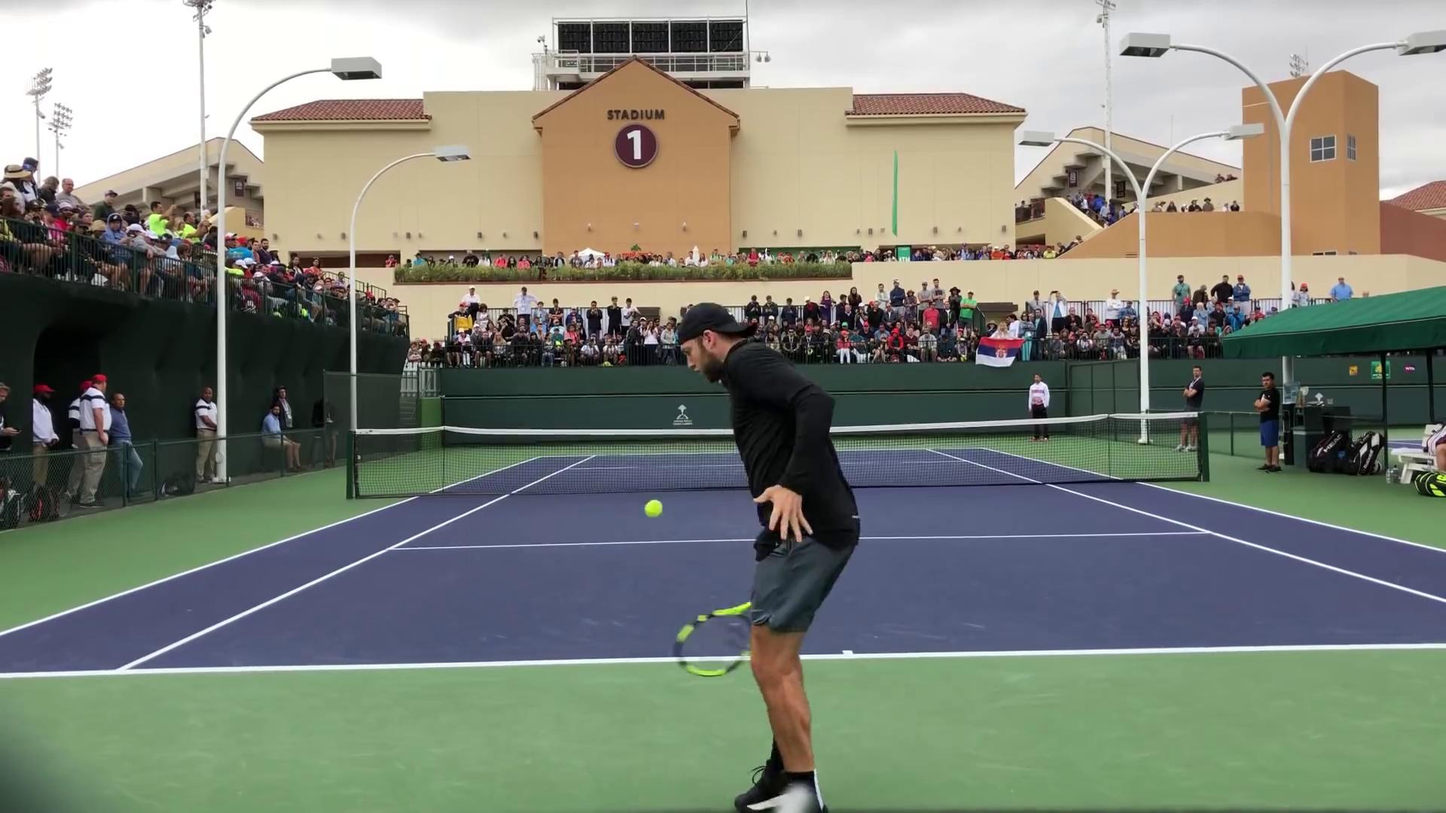ball: (642, 500, 665, 519)
